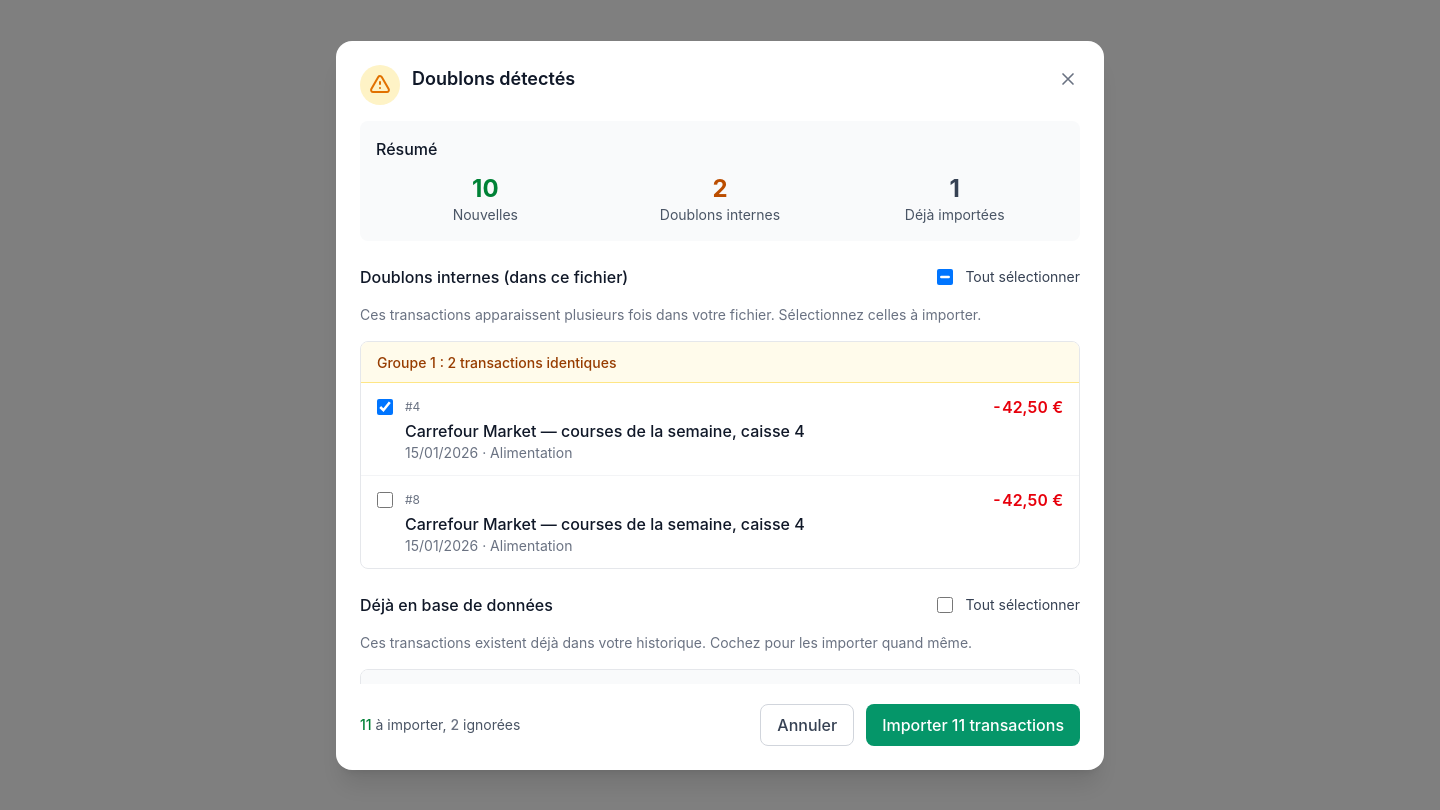
Scenario: DuplicatesReviewModal › selects and clears every internal duplicate at once
Click the checkbox with test id "internal-select-all": coordinates (945, 276) [937,268,953,284]
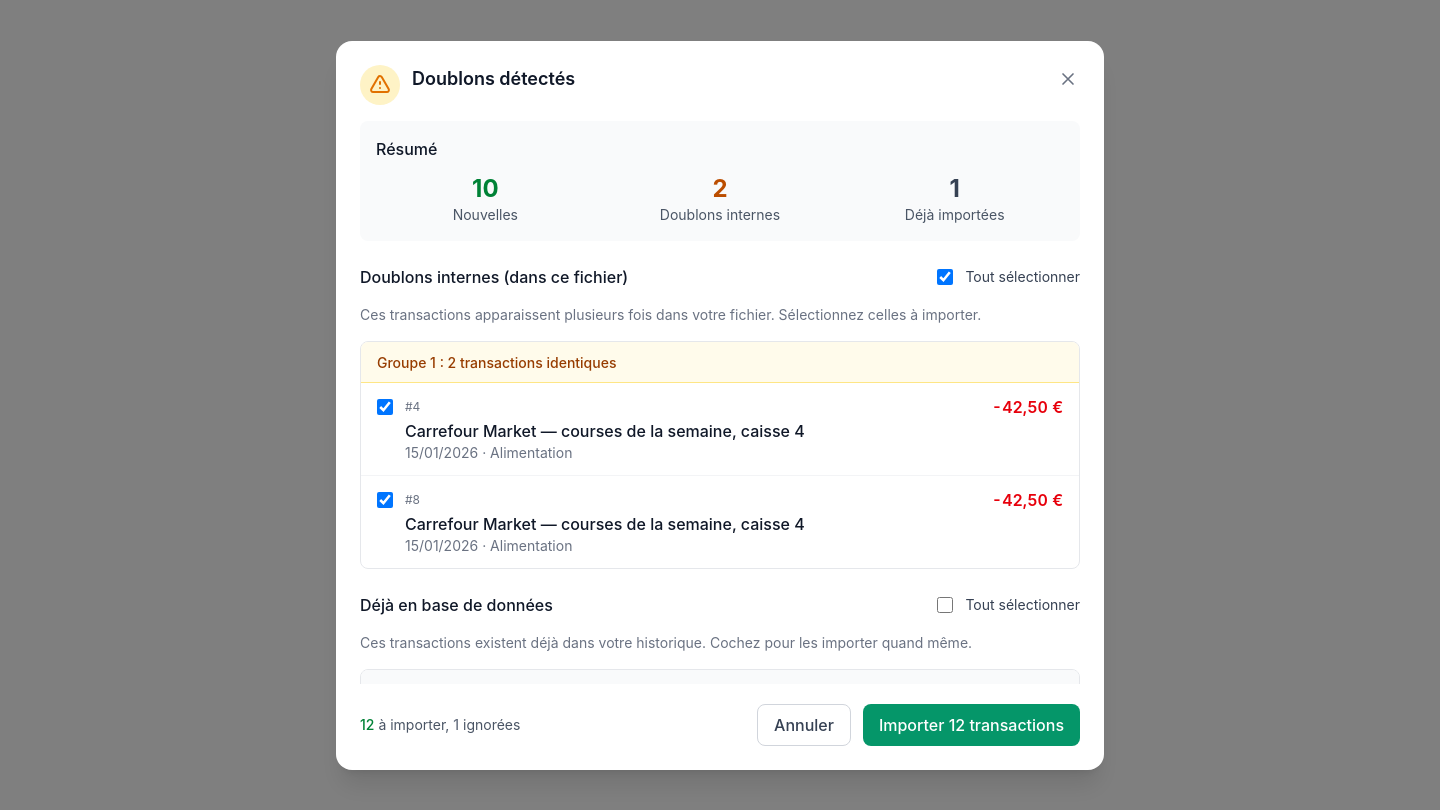
expect the element with test id "import-summary" reads "12 à importer, 1 ignorées": met, box [360,716,520,732]
Click the checkbox with test id "internal-select-all": coordinates (945, 276) [937,268,953,284]
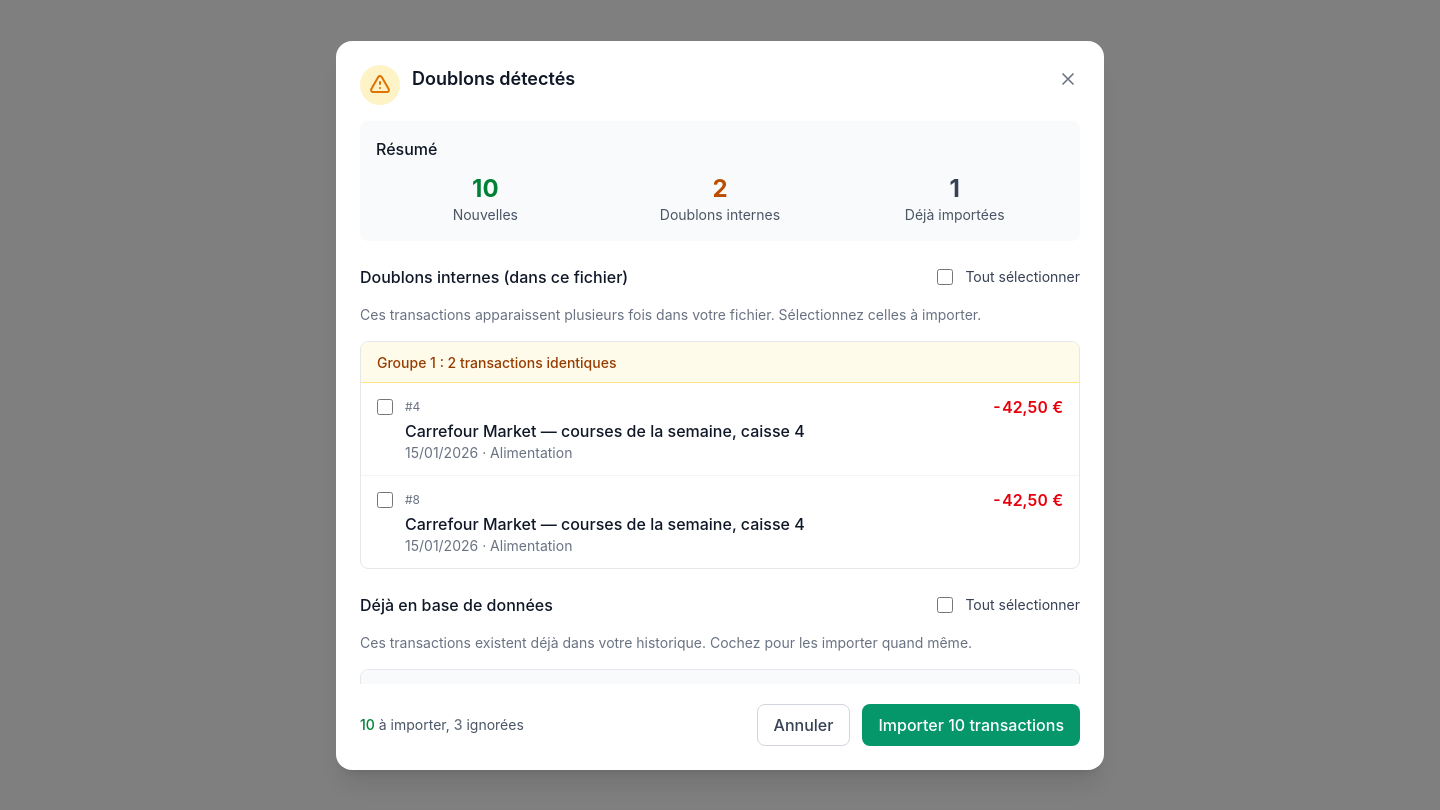
expect the element with test id "import-summary" reads "10 à importer, 3 ignorées": met, box [360,716,524,732]
